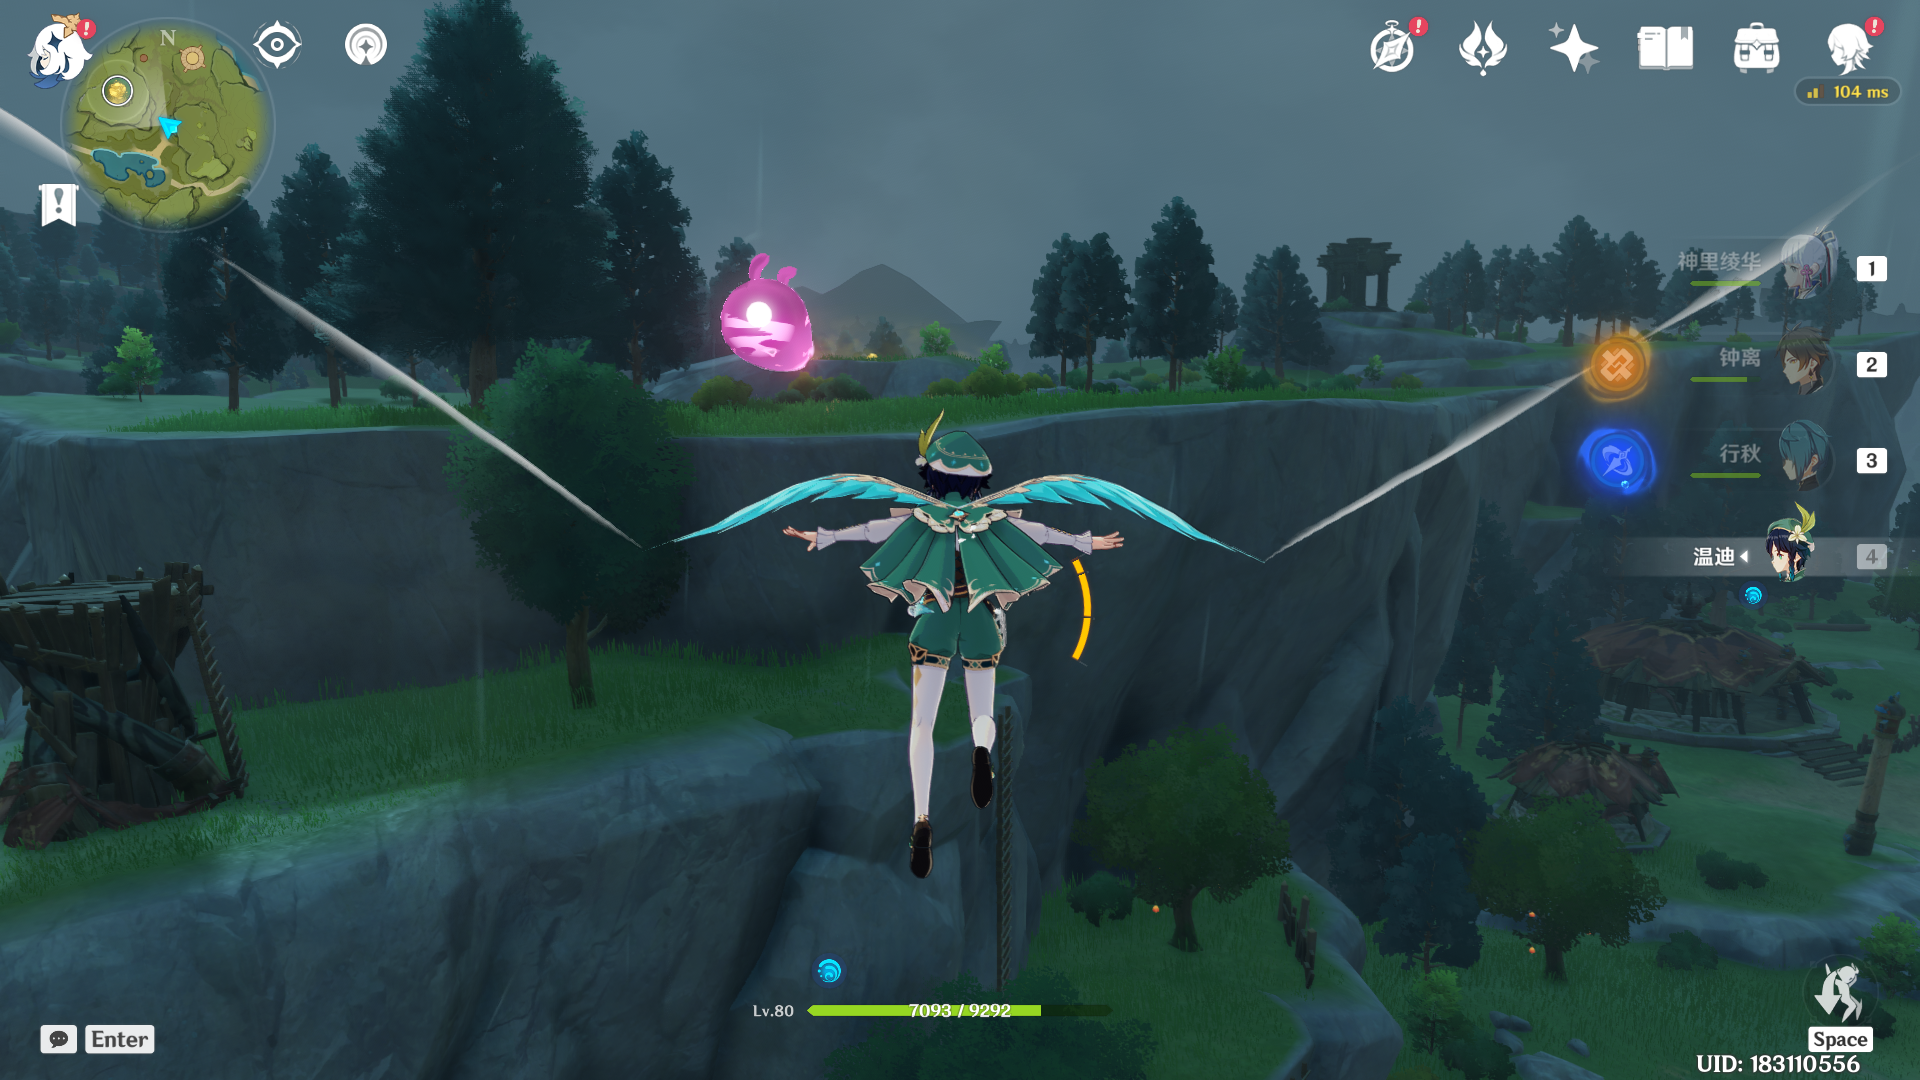character: (766, 377, 1162, 923)
